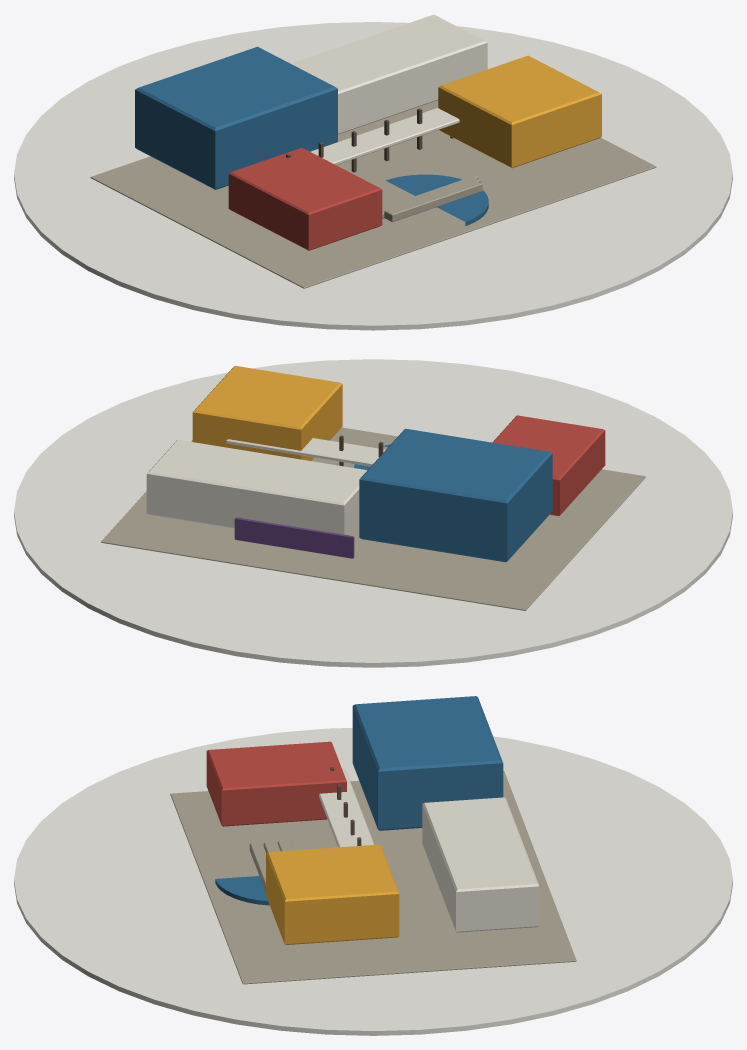
Rendered from centro-cultural-bom-jardim.glb.
3 views of the same model, one above another, from view 1: azimuth 30°, elevation 25°; view 2: azimuth 150°, elevation 25°; view 3: azimuth 270°, elevation 25° (orthographic).
Parts seen in each view (by area): view 1: Base_Pedestal, Praca_Cultural, Bloco_Teatro, Bloco_Midiateca, Bloco_Formacao, Galeria_Artes, Marquise_Conexao, Palco_Aberto, Arquibancada_2; view 2: Base_Pedestal, Praca_Cultural, Bloco_Teatro, Bloco_Formacao, Bloco_Midiateca, Galeria_Artes, Mural_Comunitario, Marquise_Conexao; view 3: Base_Pedestal, Praca_Cultural, Bloco_Teatro, Bloco_Formacao, Bloco_Midiateca, Galeria_Artes, Marquise_Conexao, Palco_Aberto.
Part boxes in pixels (x1=…): Base_Pedestal: x1=14, y1=22, x2=732, y2=330; Praca_Cultural: x1=90, y1=100, x2=656, y2=288; Bloco_Teatro: x1=135, y1=46, x2=337, y2=189; Bloco_Midiateca: x1=438, y1=55, x2=601, y2=168; Bloco_Formacao: x1=291, y1=14, x2=487, y2=134; Galeria_Artes: x1=228, y1=147, x2=382, y2=250; Marquise_Conexao: x1=310, y1=108, x2=459, y2=164; Palco_Aberto: x1=385, y1=174, x2=488, y2=226; Arquibancada_2: x1=384, y1=180, x2=482, y2=222; Base_Pedestal: x1=14, y1=359, x2=732, y2=667; Praca_Cultural: x1=101, y1=427, x2=645, y2=610; Bloco_Teatro: x1=359, y1=428, x2=552, y2=562; Bloco_Formacao: x1=146, y1=439, x2=366, y2=535; Bloco_Midiateca: x1=192, y1=365, x2=342, y2=460; Galeria_Artes: x1=492, y1=415, x2=605, y2=515; Mural_Comunitario: x1=234, y1=517, x2=354, y2=558; Marquise_Conexao: x1=226, y1=438, x2=385, y2=466; Base_Pedestal: x1=14, y1=728, x2=732, y2=1035; Praca_Cultural: x1=170, y1=771, x2=576, y2=984; Bloco_Teatro: x1=352, y1=696, x2=503, y2=830; Bloco_Formacao: x1=422, y1=797, x2=539, y2=932; Bloco_Midiateca: x1=266, y1=844, x2=399, y2=944; Galeria_Artes: x1=206, y1=741, x2=346, y2=826; Marquise_Conexao: x1=319, y1=767, x2=374, y2=847; Palco_Aberto: x1=215, y1=876, x2=269, y2=905.
Bounding box in the file's own units: 68 × 10.25 × 68.
